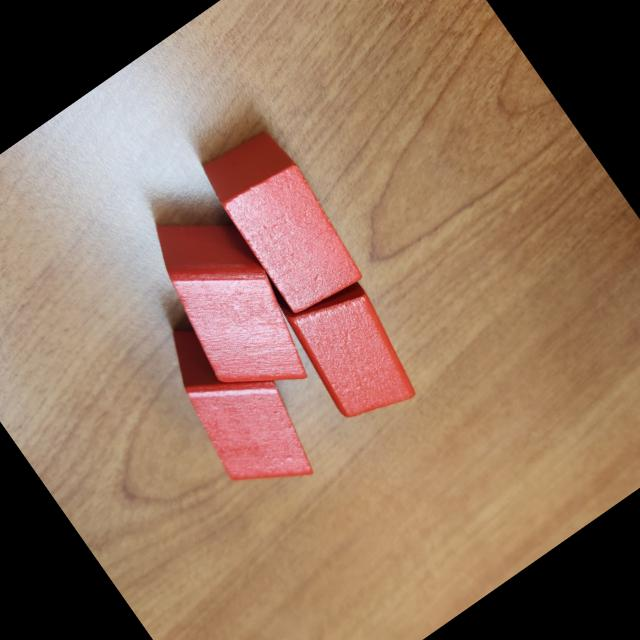red: (126, 188, 329, 418), (140, 297, 332, 516), (188, 117, 372, 324), (278, 269, 433, 437)
